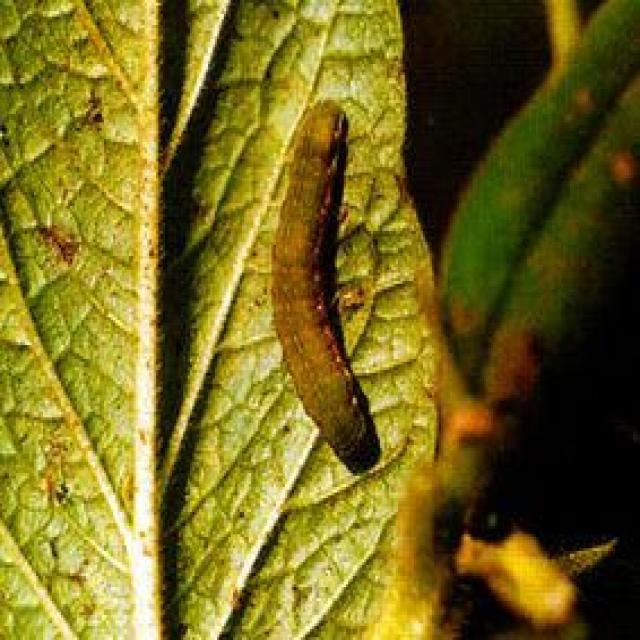BeetArmyWorm-Larva-: (270, 89, 375, 467)
